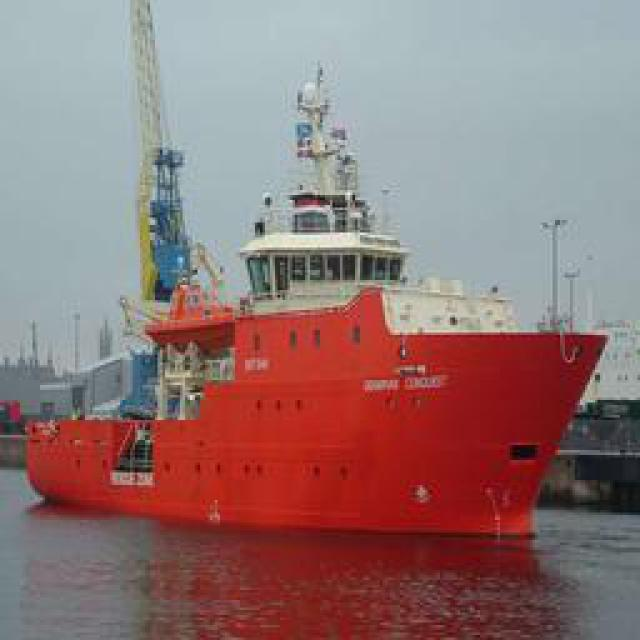Ship: (35, 7, 613, 527)
